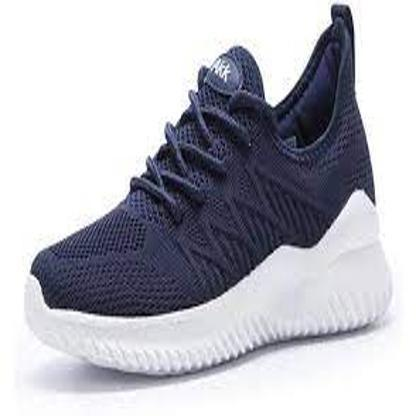not trash: (23, 1, 393, 374)
